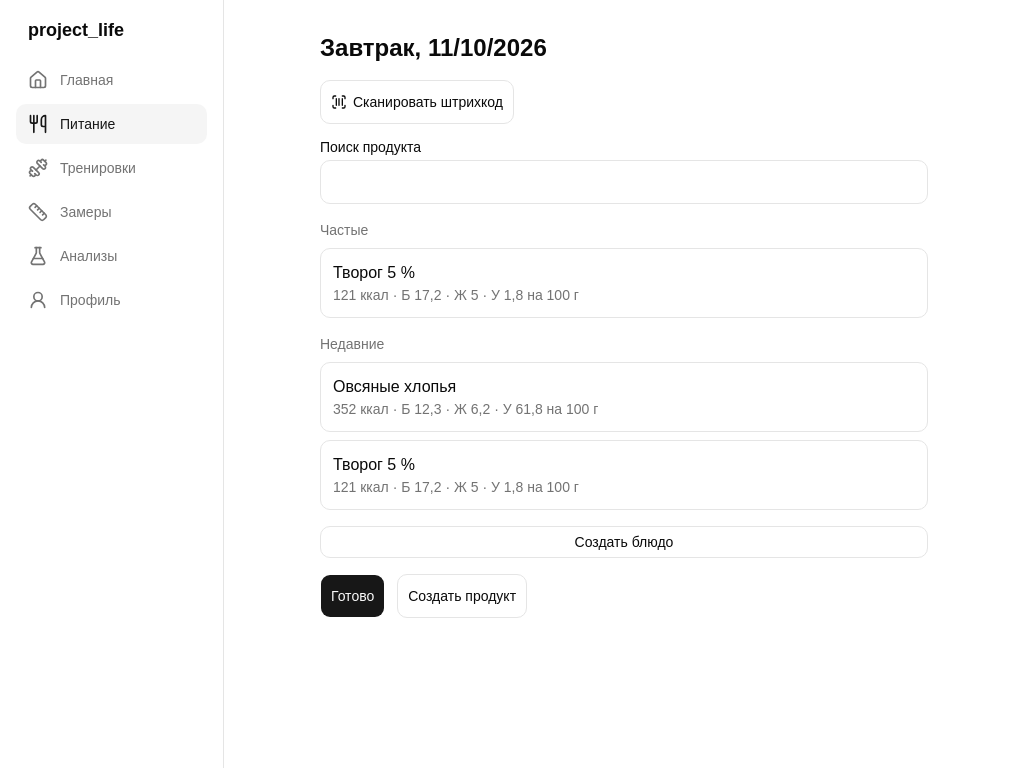
it: добавление в приём пищи › предлагает частые и недавние продукты с прошлой граммовкой
The width and height of the screenshot is (1024, 768).
Expected: the heading "Завтрак, 11/10/2026" is shown, [320,34,547,61]
Expected: the text "121 ккал · Б 17,2 · Ж 5 · У 1,8 на 100 г" below "Частые" is shown, [333,287,579,303]
// Раскрывается одна строка — та, что нажата, хотя творог есть в обоих списках.
What coordinates should you click on to do the following:
click the button "Творог 5 % 121 ккал · Б 17,2 · Ж 5 · У 1,8 на 100 г" below "Частые"
I would click on:
 (374, 272)
Its box is [333,261,915,305].
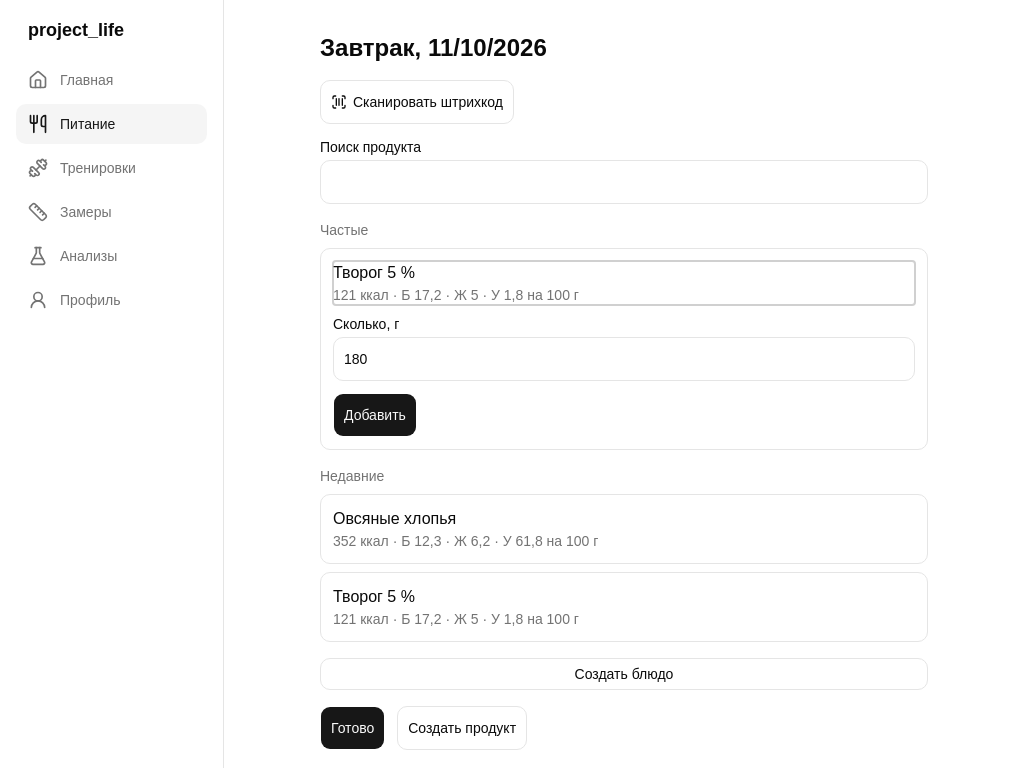
Expected: the number of fields labelled "Сколько, г" is 1, [333,337,915,381]
Expected: the field labelled "Сколько, г" holds "180", [333,337,915,381]
What coordinates should you click on to do the following:
click the button "Добавить"
I would click on:
 (375, 415)
Its box is [333,393,417,437].
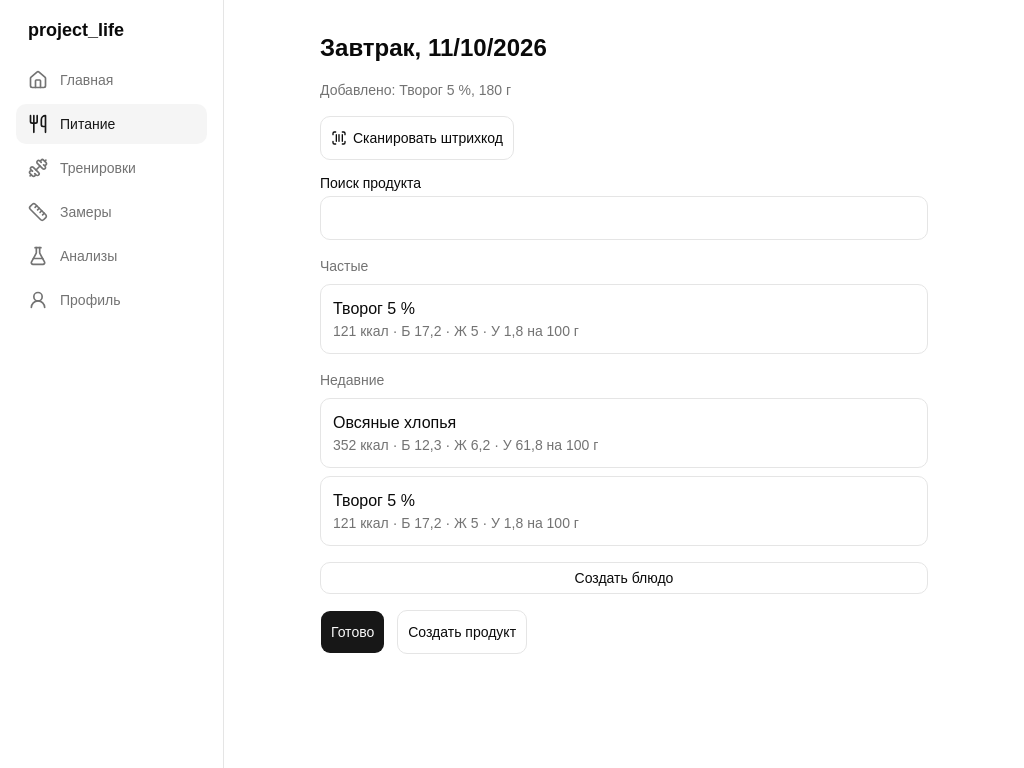
Expected: the message reads "Добавлено: Творог 5 %, 180 г", [320,82,511,98]
Expected: the label labelled "Сколько, г" is gone
